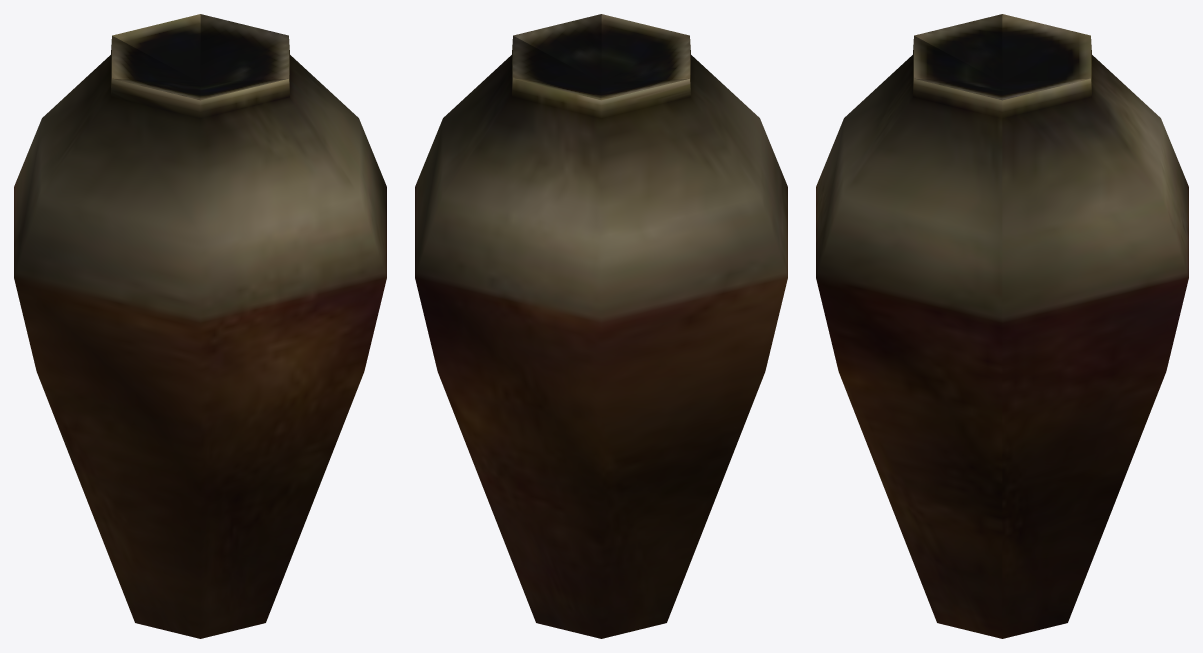
File: largejug_A.fbx
3 renders of one model, left to right at view 1: azimuth 30°, elevation 25°; view 2: azimuth 150°, elevation 25°; view 3: azimuth 270°, elevation 25°, orthographic.
Parts seen in each view (by area): view 1: lod_high; view 2: lod_high; view 3: lod_high.
Boxes of the visible parts, x1,y1,x2,y2 form: lod_high: (14,14,386,638); lod_high: (415,14,787,638); lod_high: (816,14,1188,638).
Bounding box in the file's own units: 134 × 188 × 116.
Materials: 1 (1 with a texture image).
